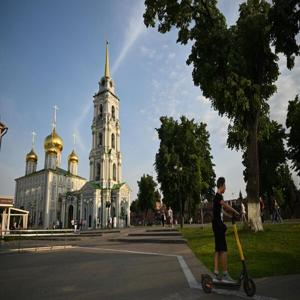human on a scooter: (199, 175, 258, 299)
